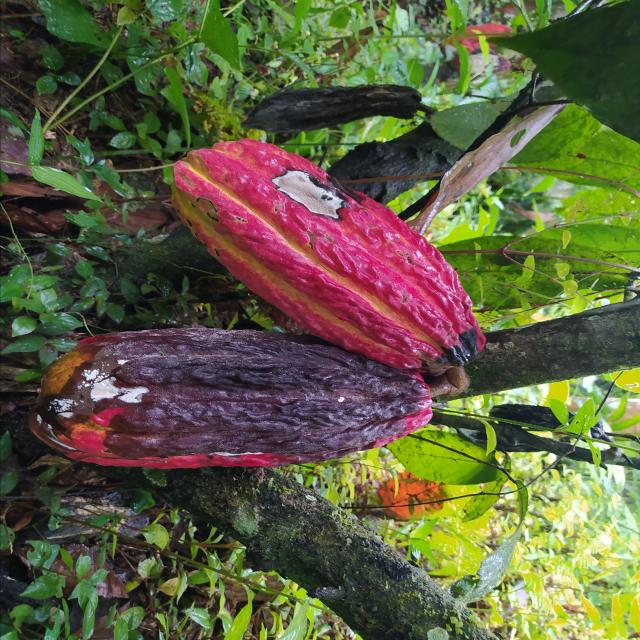Fitoftora: (249, 84, 420, 134)
Monilia: (166, 138, 486, 378), (32, 330, 434, 470)
